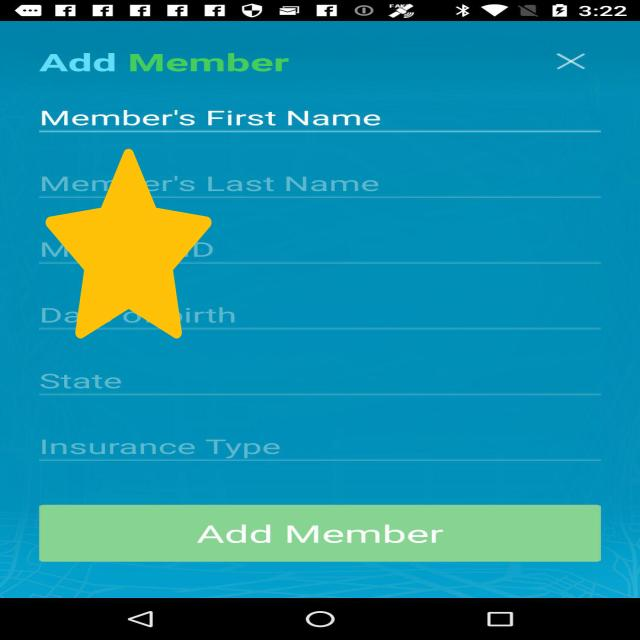forced continuity: (45, 148, 212, 338)
